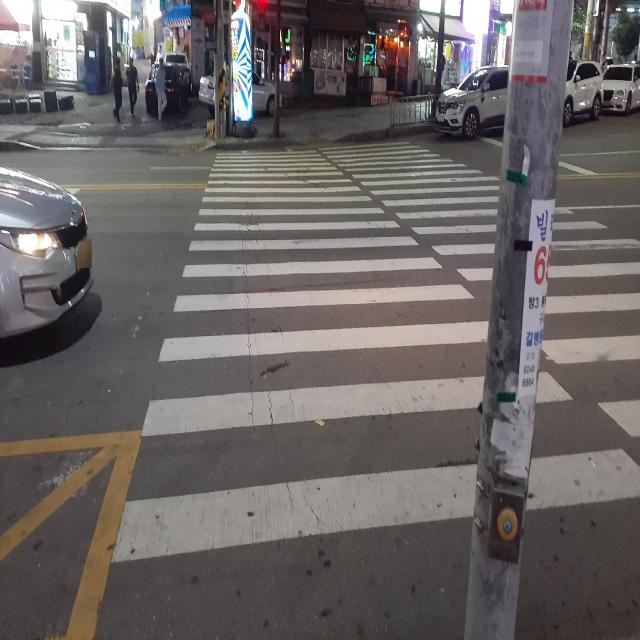횡단보도: (110, 140, 640, 571)
